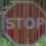Stop: (3, 2, 42, 45)
